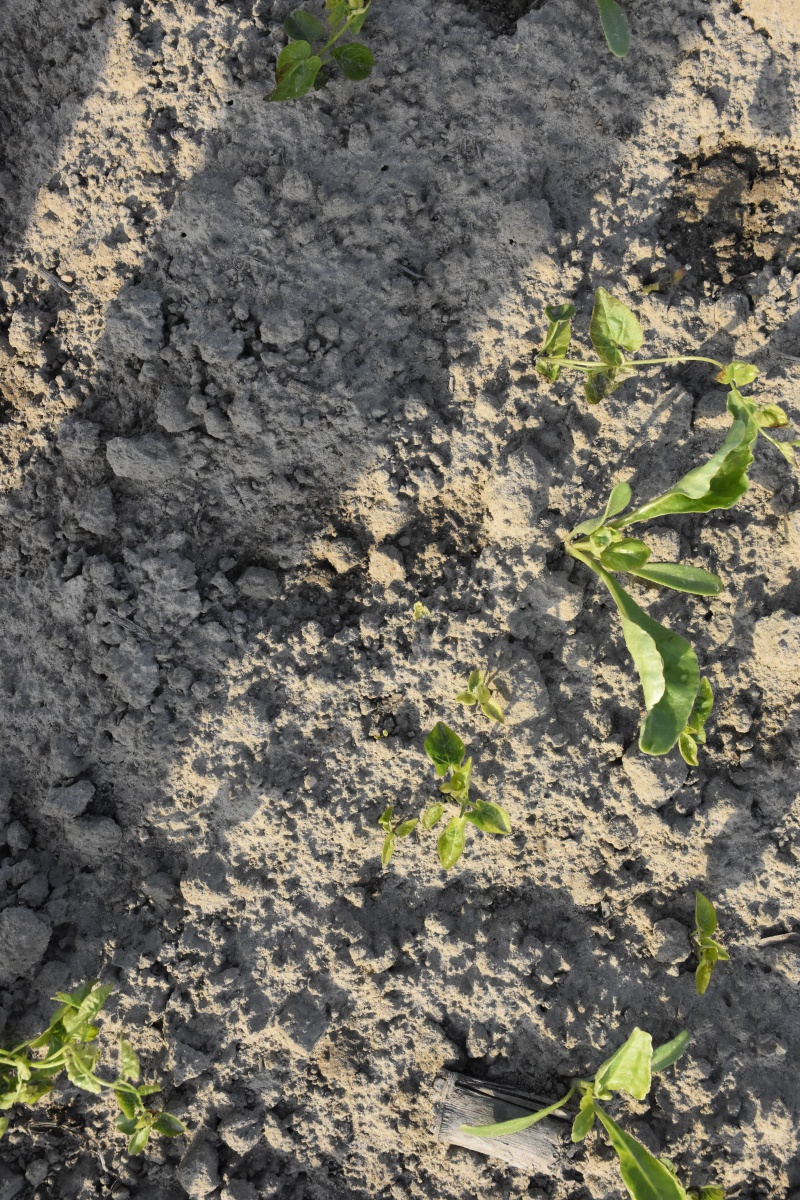field bindweed: (1, 984, 180, 1159), (374, 671, 500, 877), (537, 299, 771, 397), (259, 1, 385, 106), (684, 885, 728, 1001)
sugar beet: (557, 392, 763, 770), (460, 1022, 703, 1200)
